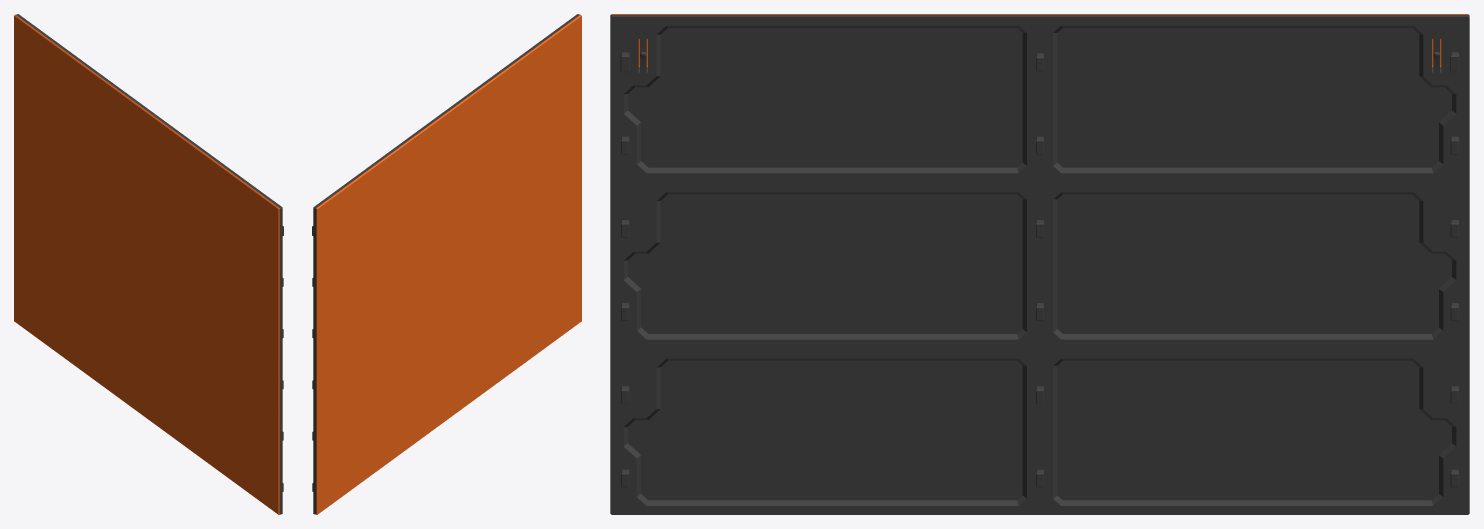
The model's file is SideCover_270-3H.lib.glb.
3 renders of one model, left to right at view 1: azimuth 30°, elevation 25°; view 2: azimuth 150°, elevation 25°; view 3: azimuth 270°, elevation 25°, orthographic. The views are drawn at different scales.
Visible parts, largest first — view 1: SideCover_270-3H; view 2: SideCover_270-3H; view 3: SideCover_270-3H.
Part boxes in pixels (<box>): SideCover_270-3H: <box>14,14,283,514</box>; SideCover_270-3H: <box>312,14,581,514</box>; SideCover_270-3H: <box>610,14,1469,514</box>.
Bounding box in the file's own units: 5.05 × 168 × 262.
